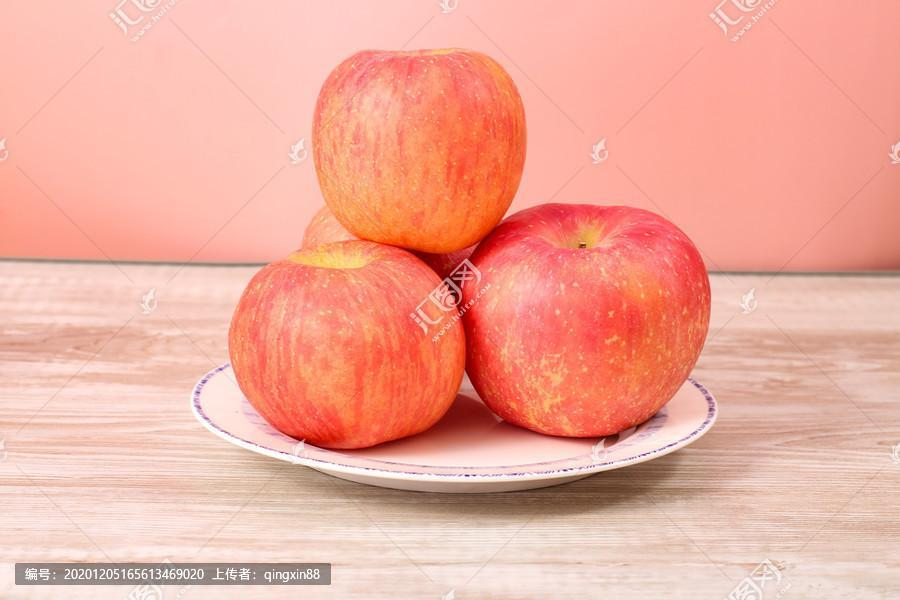apple: (447, 201, 709, 438), (227, 226, 468, 450), (310, 47, 526, 254)
